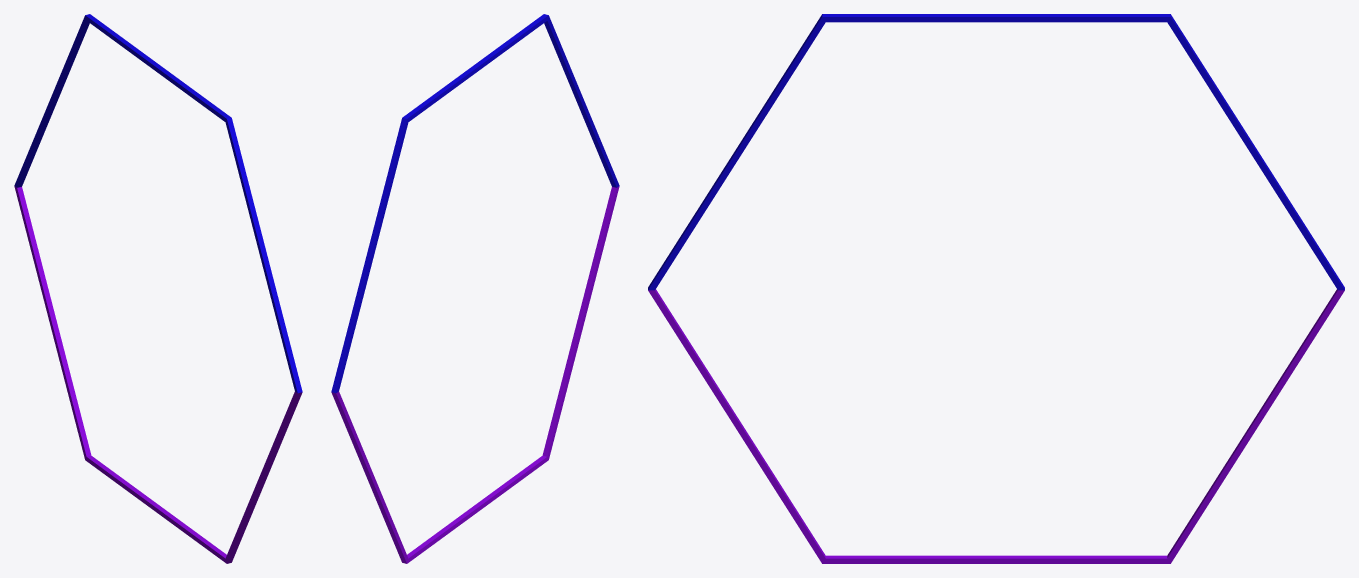
The picture shows the model from 3 angles, left to right: view 1: azimuth 30°, elevation 25°; view 2: azimuth 150°, elevation 25°; view 3: azimuth 270°, elevation 25°; orthographic projection. The views are drawn at different scales.
Visible parts, largest first — view 1: Cylinder, Cylinder.001; view 2: Cylinder, Cylinder.001; view 3: Cylinder, Cylinder.001.
Boxes of the visible parts, x1,y1,x2,y2 form: Cylinder: (14, 14, 302, 393); Cylinder.001: (14, 186, 302, 563); Cylinder: (331, 14, 619, 393); Cylinder.001: (331, 186, 619, 563); Cylinder: (648, 14, 1344, 290); Cylinder.001: (648, 289, 1344, 563).
Bounding box in the file's own units: 20 × 1732 × 2000.
